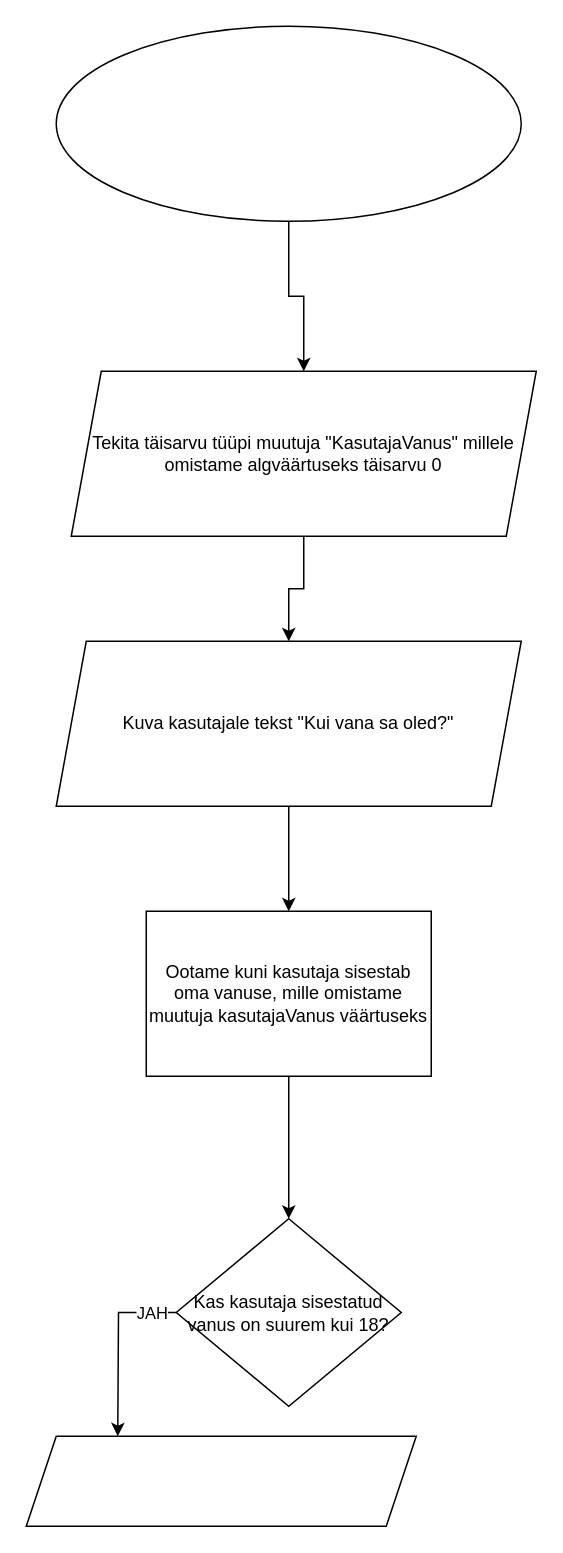
Image size: 563x1553. Some labels were removed from this diagram. The shapes that lost their labels are listed below. From the top down, each one's box as (x1, y1, x2, y2) in pixels, then its label:
(55, 25, 521, 221): Programmi algus
(25, 1435, 416, 1526): Kuvame kasutajale teksti "Tere, siin on sinu mojito :)"
